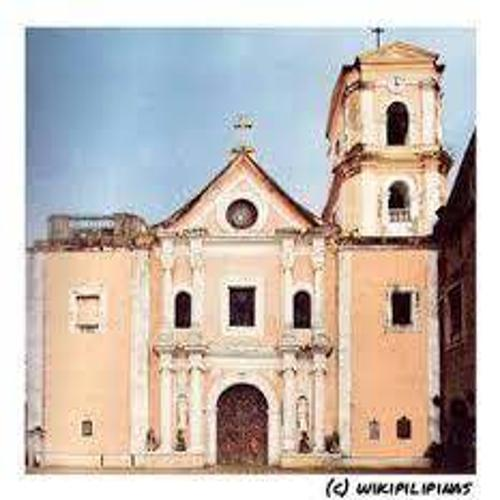San Agustin Church: (139, 30, 445, 462)
